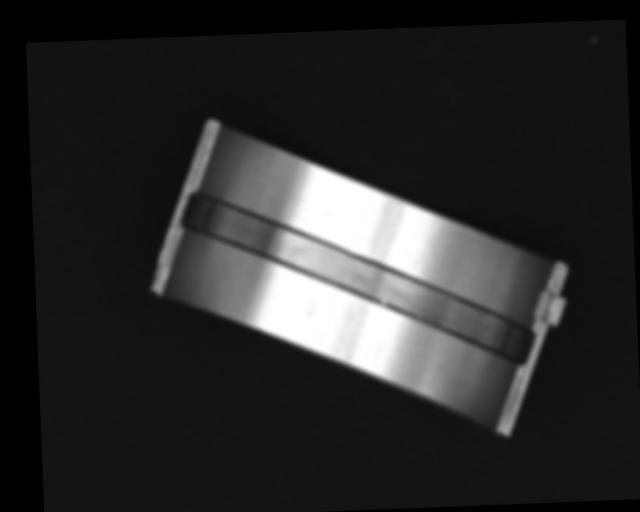gap: (178, 177, 536, 376)
